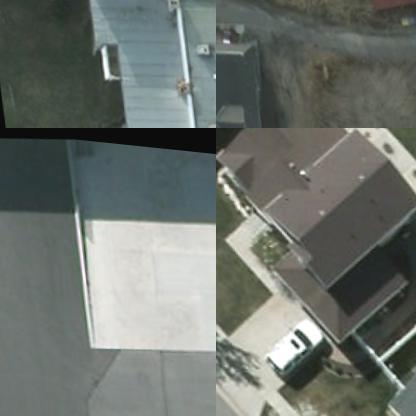car: (254, 309, 326, 380)
